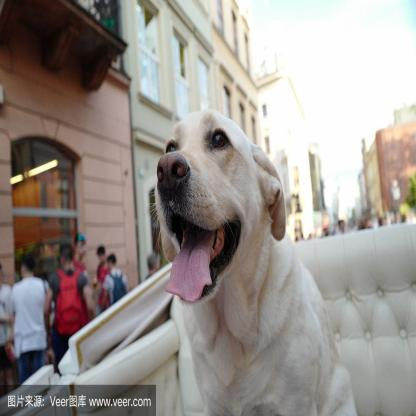Labarador Retriever: (155, 110, 360, 416)
